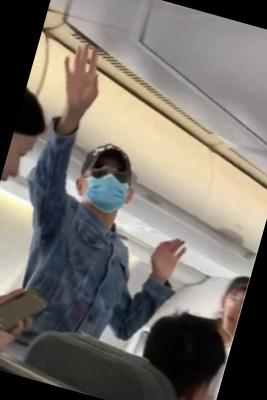with_mask: (77, 155, 136, 218)
